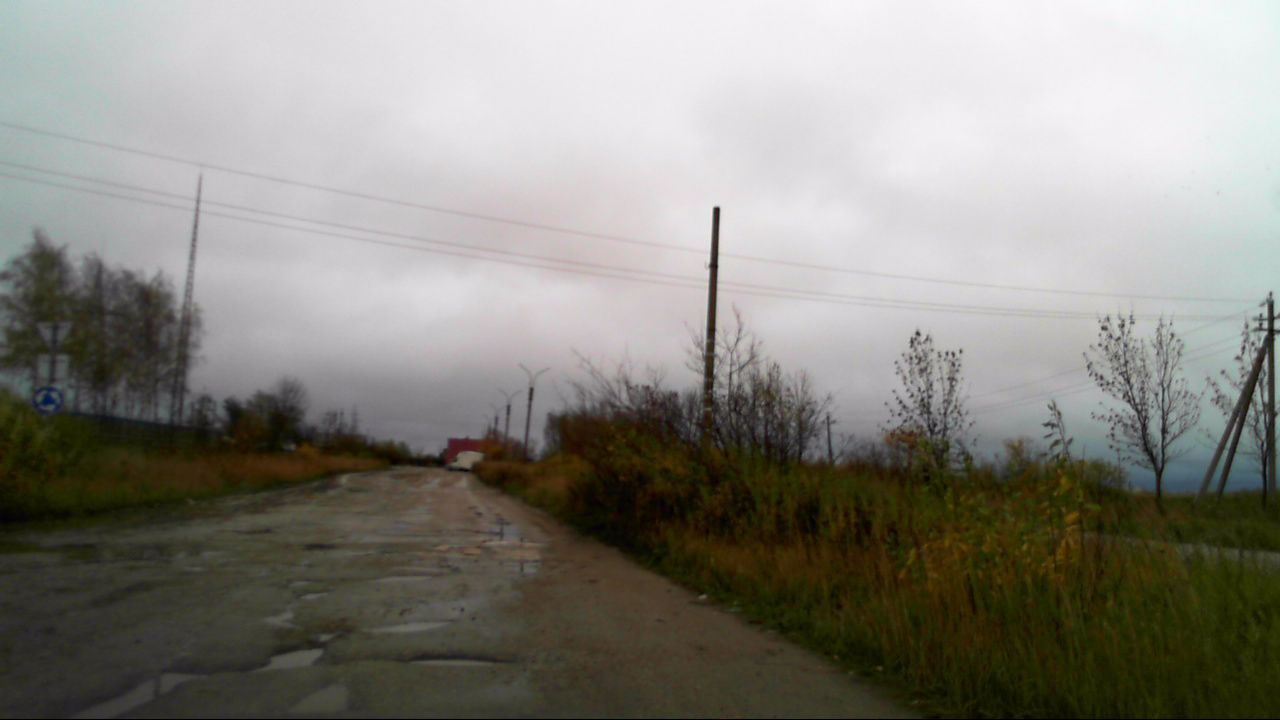Round-About: (29, 381, 66, 417)
